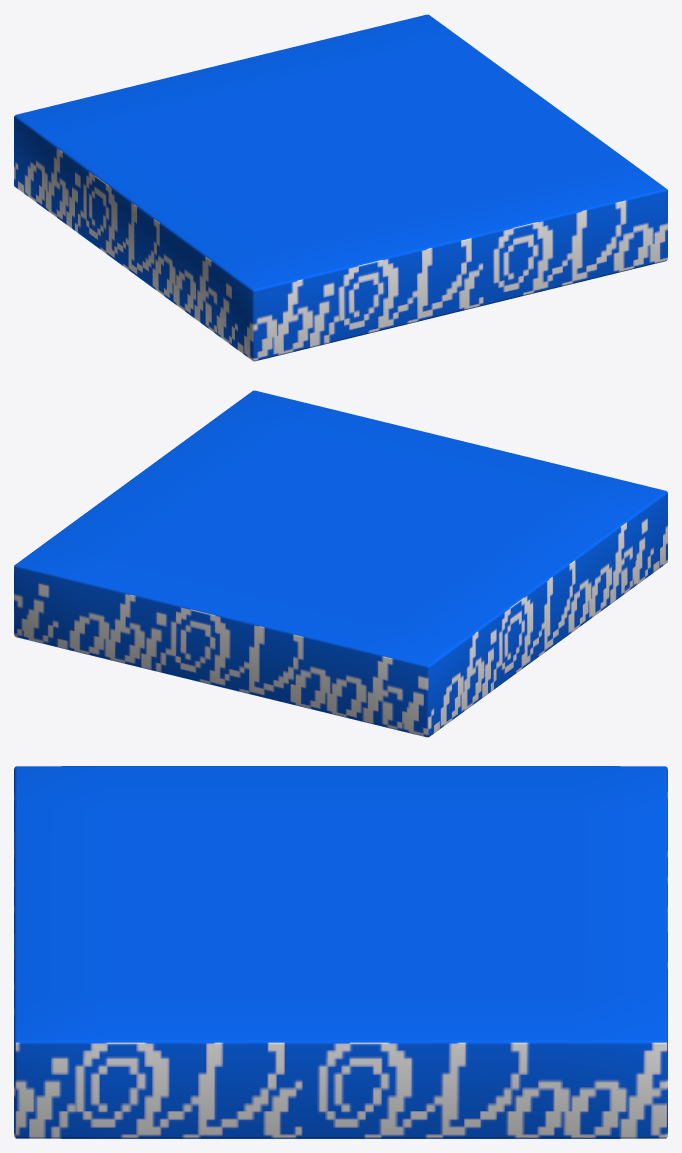
The picture shows the model from 3 angles, top to bottom: view 1: azimuth 30°, elevation 25°; view 2: azimuth 150°, elevation 25°; view 3: azimuth 270°, elevation 25°; orthographic projection. The views are drawn at different scales.
Visible parts, largest first — view 1: Cube; view 2: Cube; view 3: Cube.
Boxes of the visible parts, x1=… form: Cube: x1=14, y1=14, x2=667, y2=361; Cube: x1=14, y1=390, x2=667, y2=737; Cube: x1=14, y1=766, x2=667, y2=1138.
Size of the model in its own units: 3 by 0.5 by 3.
1 material, 1 textured.
